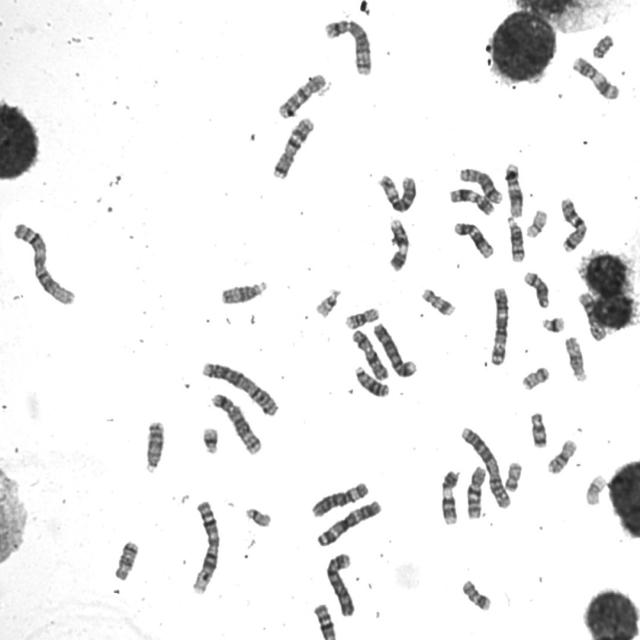A1: (11, 219, 78, 307), (188, 497, 222, 596)
A2: (199, 358, 281, 417), (458, 424, 512, 510)
A3: (314, 496, 384, 548), (487, 284, 511, 367)
B4: (371, 320, 418, 378), (324, 550, 356, 618)
B5: (208, 390, 263, 456), (322, 16, 374, 77)
C10: (276, 71, 327, 120), (464, 464, 489, 520)
C11: (569, 53, 622, 101), (446, 185, 496, 217)
C12: (450, 219, 495, 260), (502, 161, 524, 219)
C6: (308, 479, 370, 519), (375, 171, 418, 213)
C7: (270, 114, 316, 180), (557, 194, 589, 253)
C8: (456, 164, 504, 205), (576, 290, 608, 342)
C9: (385, 215, 410, 272), (438, 467, 461, 526)
D13: (352, 362, 391, 398), (142, 418, 166, 474)
D14: (522, 268, 551, 310), (504, 213, 526, 263)
D15: (218, 278, 269, 306), (562, 333, 588, 383)
E16: (544, 437, 579, 476), (342, 304, 381, 330)
E17: (419, 285, 457, 318), (459, 577, 492, 612)
E18: (112, 537, 140, 582), (528, 409, 548, 449)
F19: (582, 472, 608, 507), (523, 207, 549, 240)
F20: (519, 363, 551, 391), (502, 458, 523, 493)
G21: (200, 424, 220, 455), (538, 314, 566, 334)
G22: (313, 286, 342, 319), (242, 505, 272, 528)
X: (348, 327, 389, 381)
Y: (589, 31, 616, 59)
